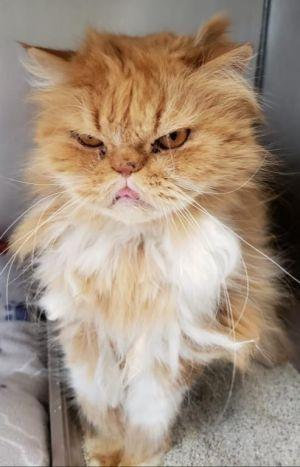persian: (22, 10, 256, 245)
